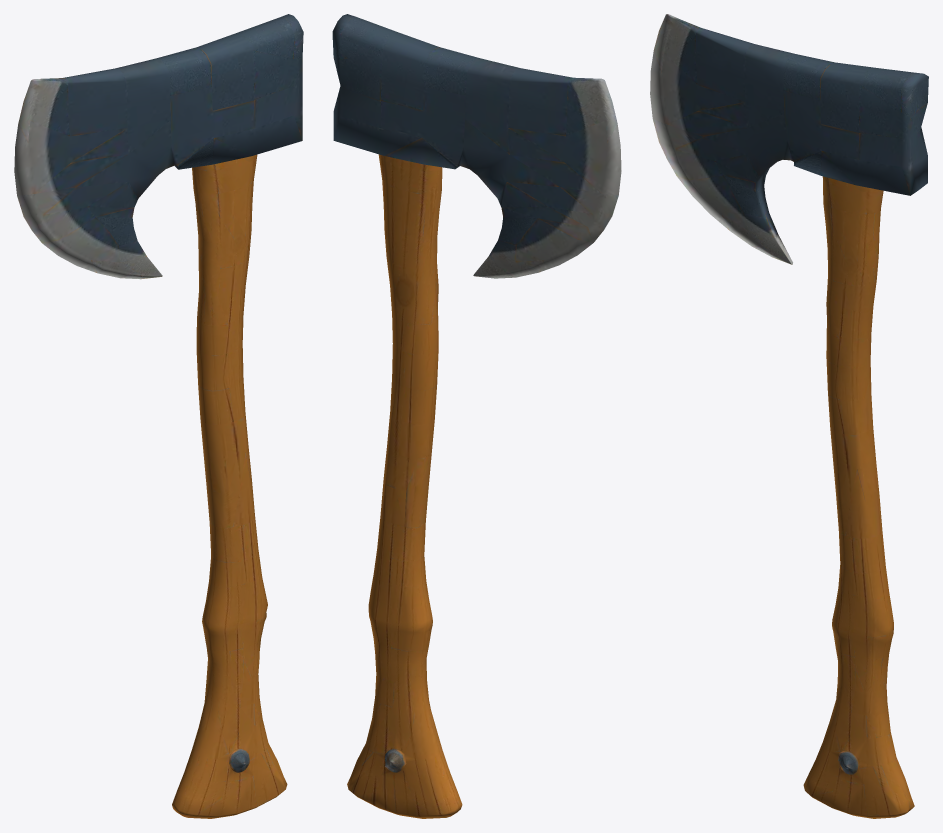
The model's file is wpn_woodaxe.glb.
3 renders of one model, left to right at view 1: azimuth 30°, elevation 25°; view 2: azimuth 150°, elevation 25°; view 3: azimuth 330°, elevation 25°, orthographic. The views are drawn at different scales.
Size of the model in its own units: 0.3545 by 0.9512 by 0.061.
1 material, 1 textured.
